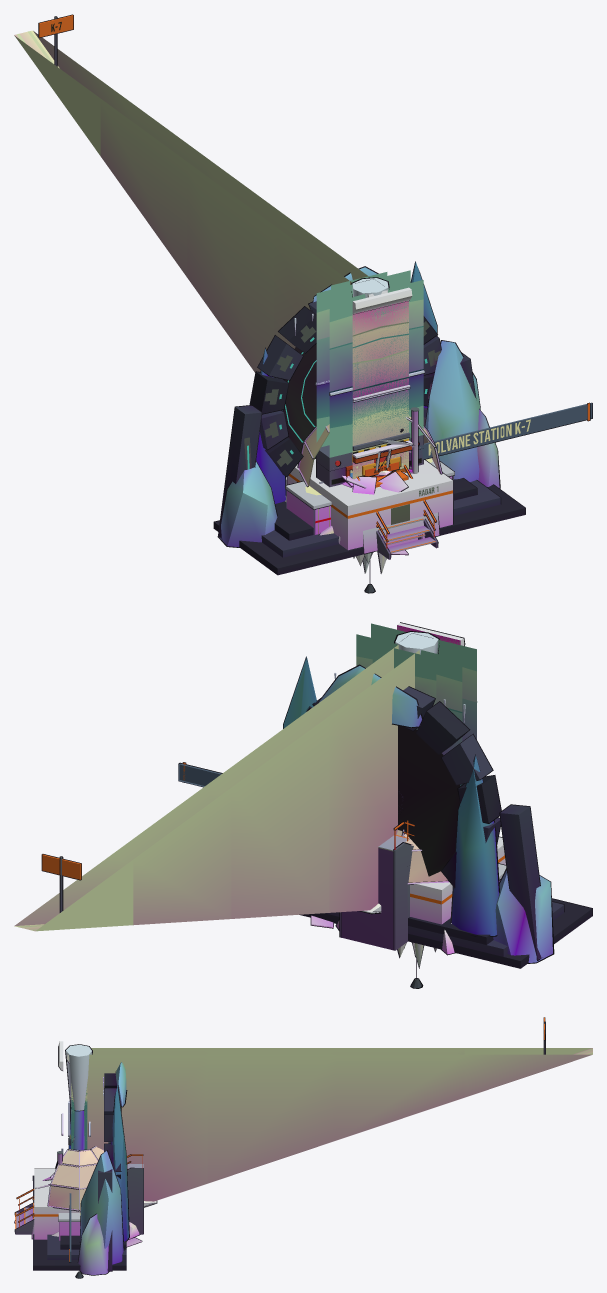
The model's file is fps-kit-arctic.glb.
3 views of the same model, one above another, from view 1: azimuth 30°, elevation 25°; view 2: azimuth 150°, elevation 25°; view 3: azimuth 270°, elevation 25° (orthographic). The views are drawn at different scales.
Visible parts, largest first — view 1: KIT_ARCTIC_Landmark_Relic, KIT_ARCTIC_Ramp_L, KIT_ARCTIC_GateFrame, KIT_ARCTIC_Breach, KIT_ARCTIC_Landmark_Radome, KIT_ARCTIC_Ramp_R, KIT_ARCTIC_DoorL, KIT_ARCTIC_NameBoard, KIT_ARCTIC_BuriedModule, KIT_ARCTIC_Stair45, KIT_ARCTIC_Snowcat; view 2: KIT_ARCTIC_Ramp_L, KIT_ARCTIC_Landmark_Relic, KIT_ARCTIC_Ramp_R, KIT_ARCTIC_Stair45, KIT_ARCTIC_GateFrame, KIT_ARCTIC_Landmark_Radome, KIT_ARCTIC_BreachIce, KIT_ARCTIC_Ramp_S, KIT_ARCTIC_IcePillar, KIT_ARCTIC_NameBoard, KIT_ARCTIC_Breach; view 3: KIT_ARCTIC_Ramp_R, KIT_ARCTIC_Landmark_Relic, KIT_ARCTIC_Landmark_Radome, KIT_ARCTIC_Ramp_L, KIT_ARCTIC_IcePillar, KIT_ARCTIC_Stair45, KIT_ARCTIC_BuriedModule, KIT_ARCTIC_CornerC.
Part boxes in pixels (x1,y1,x2,y2): KIT_ARCTIC_Landmark_Relic: [213, 261, 525, 575]; KIT_ARCTIC_Ramp_L: [14, 30, 351, 372]; KIT_ARCTIC_GateFrame: [315, 270, 424, 487]; KIT_ARCTIC_Breach: [350, 287, 412, 479]; KIT_ARCTIC_Landmark_Radome: [285, 416, 453, 555]; KIT_ARCTIC_Ramp_R: [33, 31, 369, 279]; KIT_ARCTIC_DoorL: [352, 300, 410, 476]; KIT_ARCTIC_NameBoard: [410, 402, 592, 463]; KIT_ARCTIC_BuriedModule: [285, 458, 454, 535]; KIT_ARCTIC_Stair45: [352, 465, 438, 559]; KIT_ARCTIC_Snowcat: [363, 470, 440, 554]; KIT_ARCTIC_Ramp_L: [14, 650, 419, 931]; KIT_ARCTIC_Landmark_Relic: [283, 656, 592, 968]; KIT_ARCTIC_Ramp_R: [14, 645, 398, 925]; KIT_ARCTIC_Stair45: [339, 820, 414, 950]; KIT_ARCTIC_GateFrame: [356, 623, 477, 785]; KIT_ARCTIC_Landmark_Radome: [310, 829, 505, 955]; KIT_ARCTIC_BreachIce: [372, 643, 436, 729]; KIT_ARCTIC_Ramp_S: [41, 854, 381, 912]; KIT_ARCTIC_IcePillar: [394, 631, 439, 654]; KIT_ARCTIC_NameBoard: [178, 762, 222, 787]; KIT_ARCTIC_Breach: [397, 622, 465, 646]; KIT_ARCTIC_Ramp_R: [87, 1054, 592, 1207]; KIT_ARCTIC_Landmark_Relic: [32, 1062, 129, 1275]; KIT_ARCTIC_Landmark_Radome: [14, 1146, 142, 1247]; KIT_ARCTIC_Ramp_L: [91, 1048, 592, 1206]; KIT_ARCTIC_IcePillar: [65, 1044, 92, 1150]; KIT_ARCTIC_Stair45: [14, 1154, 143, 1234]; KIT_ARCTIC_BuriedModule: [58, 1213, 80, 1240]; KIT_ARCTIC_CornerC: [71, 1083, 87, 1149].
Bounding box in the file's own units: 18.58 × 17.53 × 36.08.
1 material, 1 textured.
